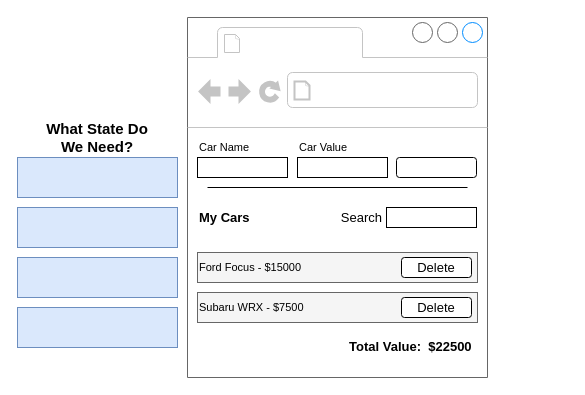
This 585x395 diagram has some shape labels left out. The box of each missing label's shape, as (x1, y1, x2, y2) in pixels:
Page 1: (246, 28, 358, 56)
Submit: (396, 156, 476, 178)
